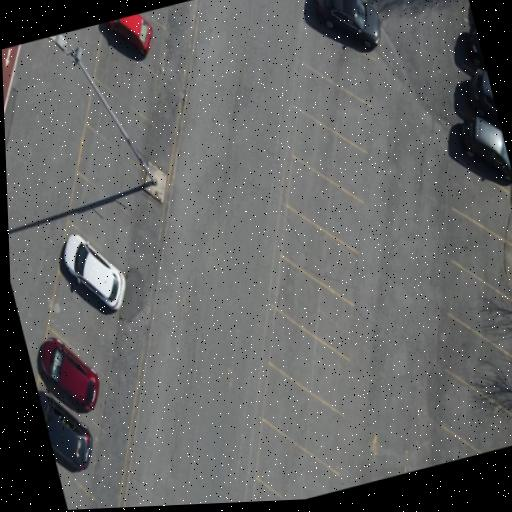car: (64, 235, 125, 310), (39, 392, 92, 471), (40, 338, 98, 410), (462, 116, 511, 181), (316, 0, 380, 48), (106, 14, 152, 55), (469, 70, 499, 125), (468, 23, 483, 66)
